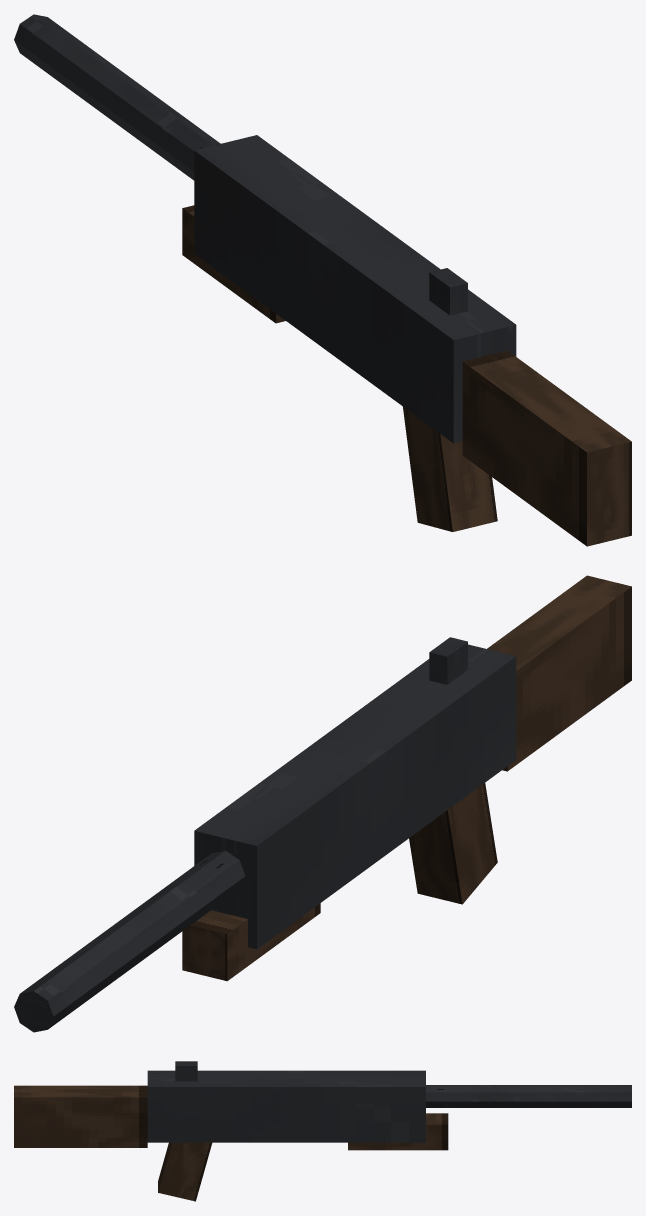
File: gun_shotgun.glb
3 views of the same model, one above another, from view 1: azimuth 30°, elevation 25°; view 2: azimuth 150°, elevation 25°; view 3: azimuth 270°, elevation 25° (orthographic). The views are drawn at different scales.
Visible parts, largest first — view 1: Gun_shotgun; view 2: Gun_shotgun; view 3: Gun_shotgun.
Part boxes in pixels (x1,y1,x2,y2): Gun_shotgun: (14, 14, 631, 546); Gun_shotgun: (14, 575, 631, 1032); Gun_shotgun: (14, 1061, 631, 1201).
Bounding box in the file's own units: 0.07 × 0.2615 × 1.11.
2 materials, 2 textured.
